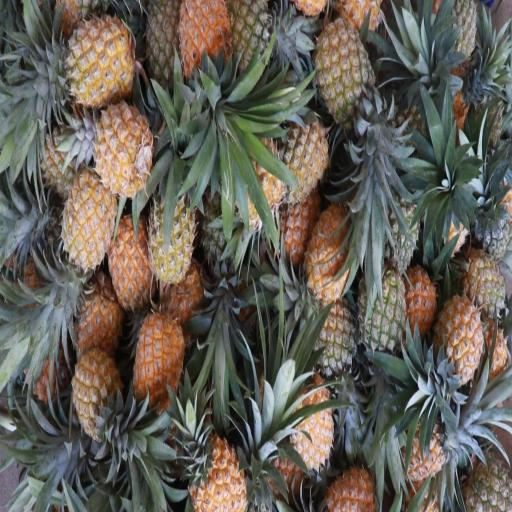------------------------------: (312, 16, 377, 141), (299, 280, 355, 386), (141, 151, 191, 266), (459, 252, 512, 320)
Pineapple - v8 v1: (42, 0, 136, 101), (178, 390, 241, 512), (91, 78, 154, 190), (276, 350, 335, 467), (52, 170, 113, 282), (298, 194, 356, 310), (126, 300, 184, 408), (433, 275, 484, 391), (166, 0, 232, 89), (274, 115, 328, 213), (102, 206, 154, 306), (69, 340, 119, 439), (402, 403, 452, 493)
